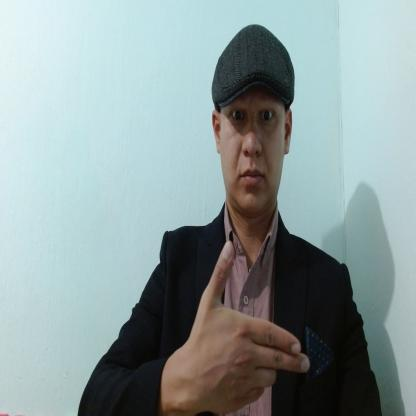H: (188, 238, 311, 415)
